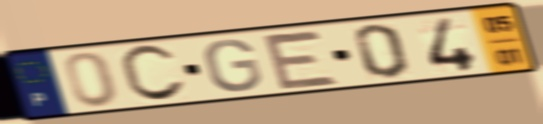0: (61, 49, 123, 110), (352, 21, 414, 81)
4: (425, 14, 478, 74)
C: (117, 42, 190, 105)
E: (257, 28, 343, 92)
G: (201, 37, 265, 94)
